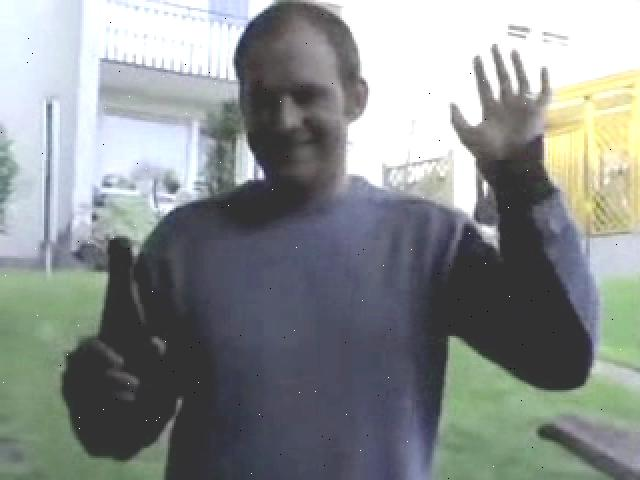L: (59, 4, 598, 478)
